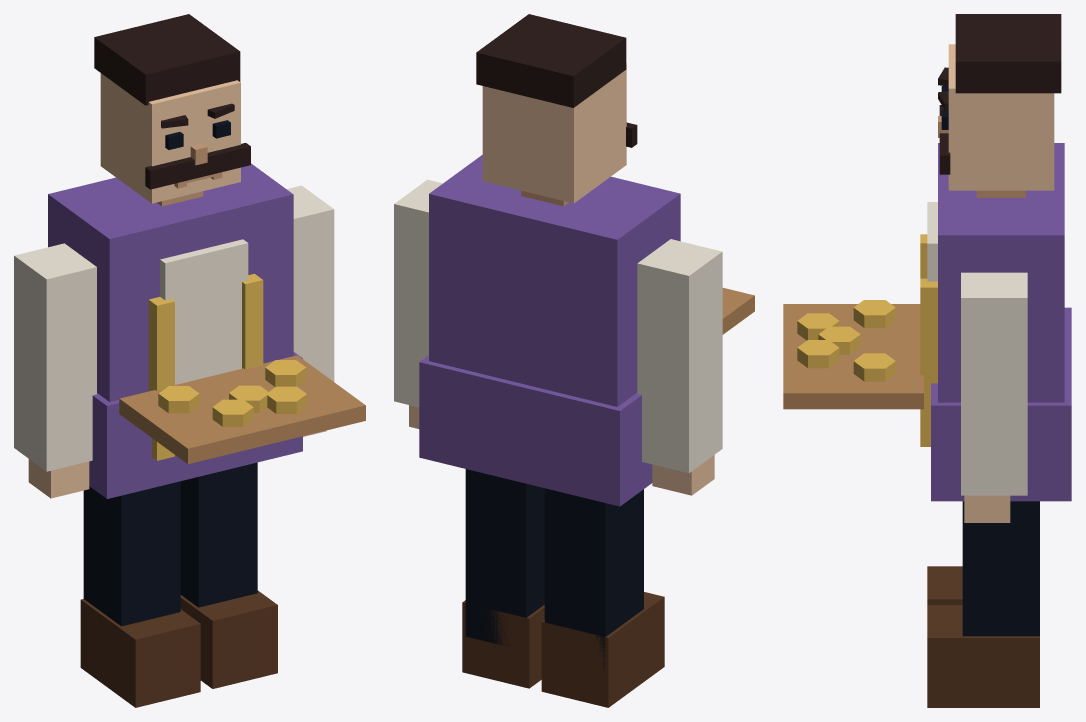
Rendered from npc_arkady.glb.
The picture shows the model from 3 angles, left to right: view 1: azimuth 30°, elevation 25°; view 2: azimuth 150°, elevation 25°; view 3: azimuth 270°, elevation 25°; orthographic projection. The views are drawn at different scales.
Parts seen in each view (by area): view 1: npc_arkady; view 2: npc_arkady; view 3: npc_arkady.
Part boxes in pixels (box(x1,y1,x2,y2)): npc_arkady: box(14, 14, 365, 707); npc_arkady: box(394, 14, 754, 707); npc_arkady: box(783, 14, 1071, 707).
Bounding box in the file's own units: 0.9701 × 1.99 × 0.8199.
1 material, 1 textured.
